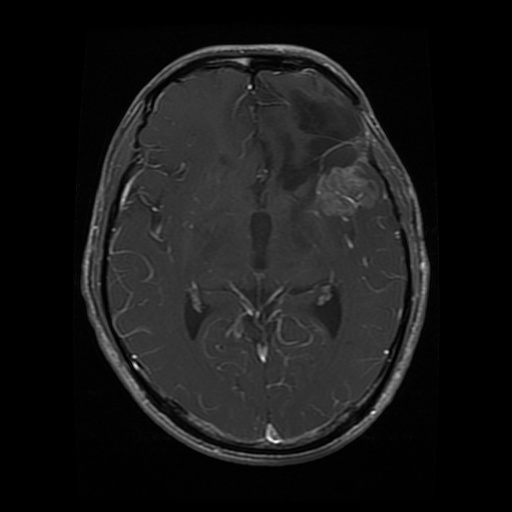glioma: (276, 84, 385, 224)
